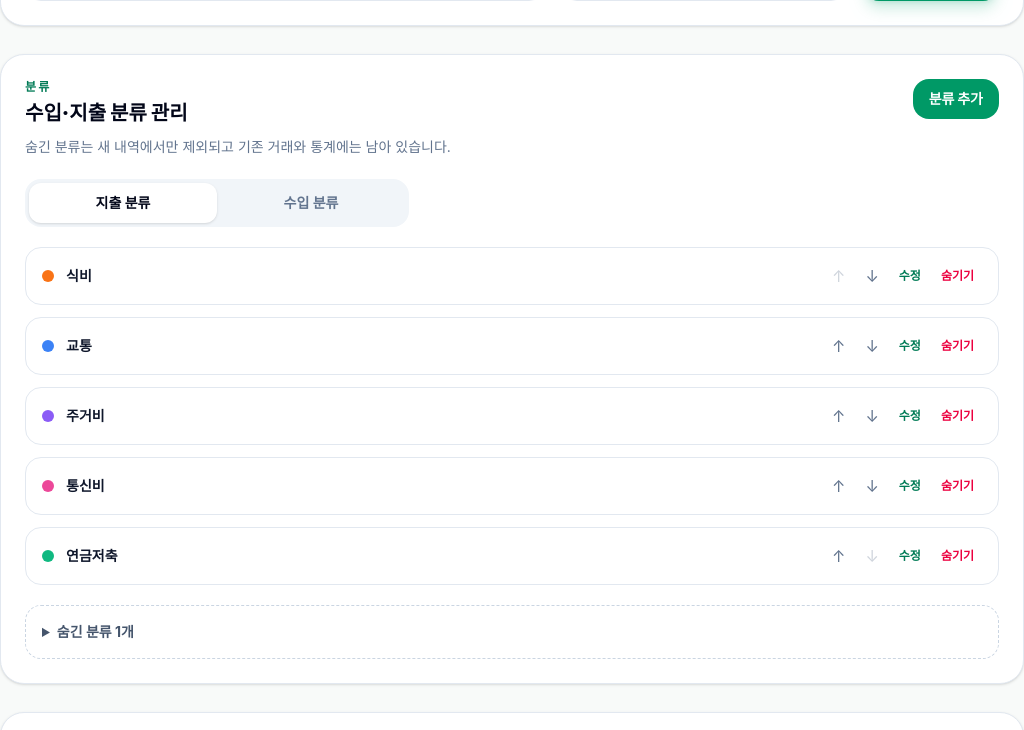
Test case: SettingsScreen › shows an action result from an immediate category change
(page scrolled)
Click the button with aria-label "교통 숨기기": (957, 346) [933,334,982,358]
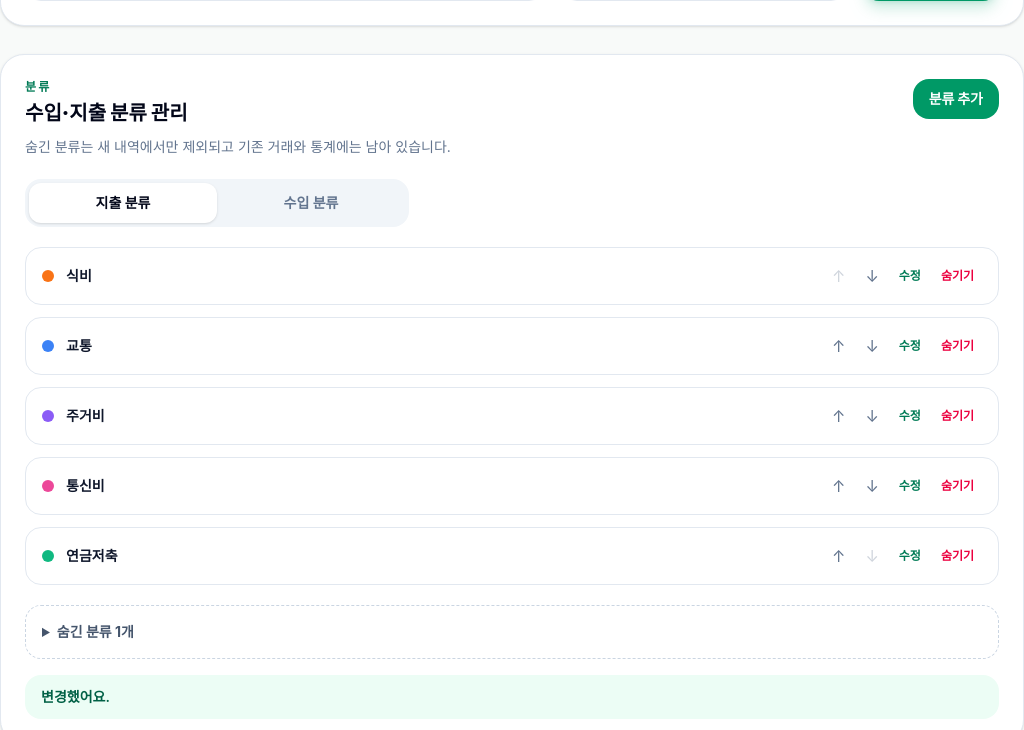
expect the message reads "변경했어요.": met, box [41,688,110,705]
